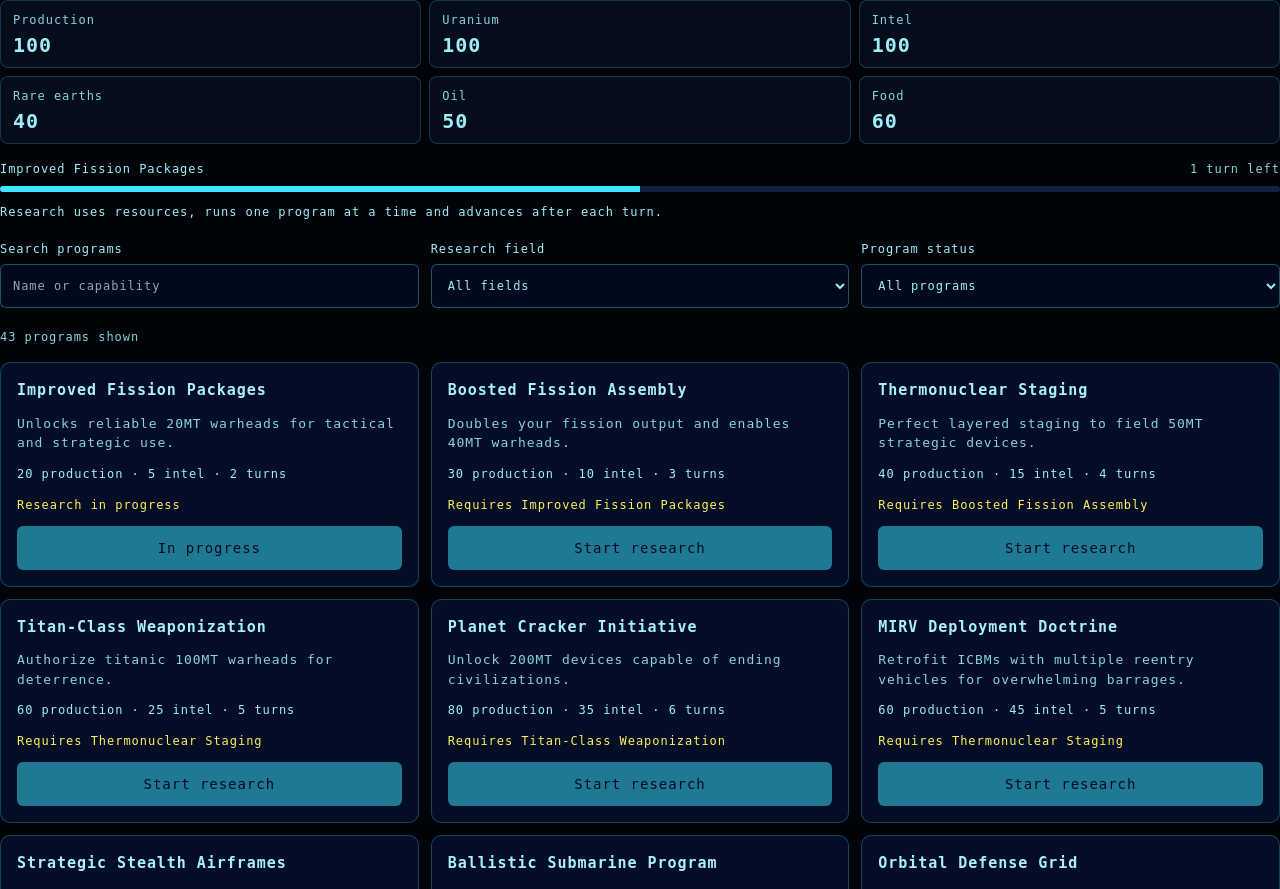
it: research workspace › keeps the queue visible and blocks new starts while a project runs
The width and height of the screenshot is (1280, 889).
Check: the button with aria-label "Start Improved Fission Packages" is disabled, box [17,526,402,570]
Select "Completed" in the dropdown labelled "Program status": (1071, 286) [861,264,1279,308]
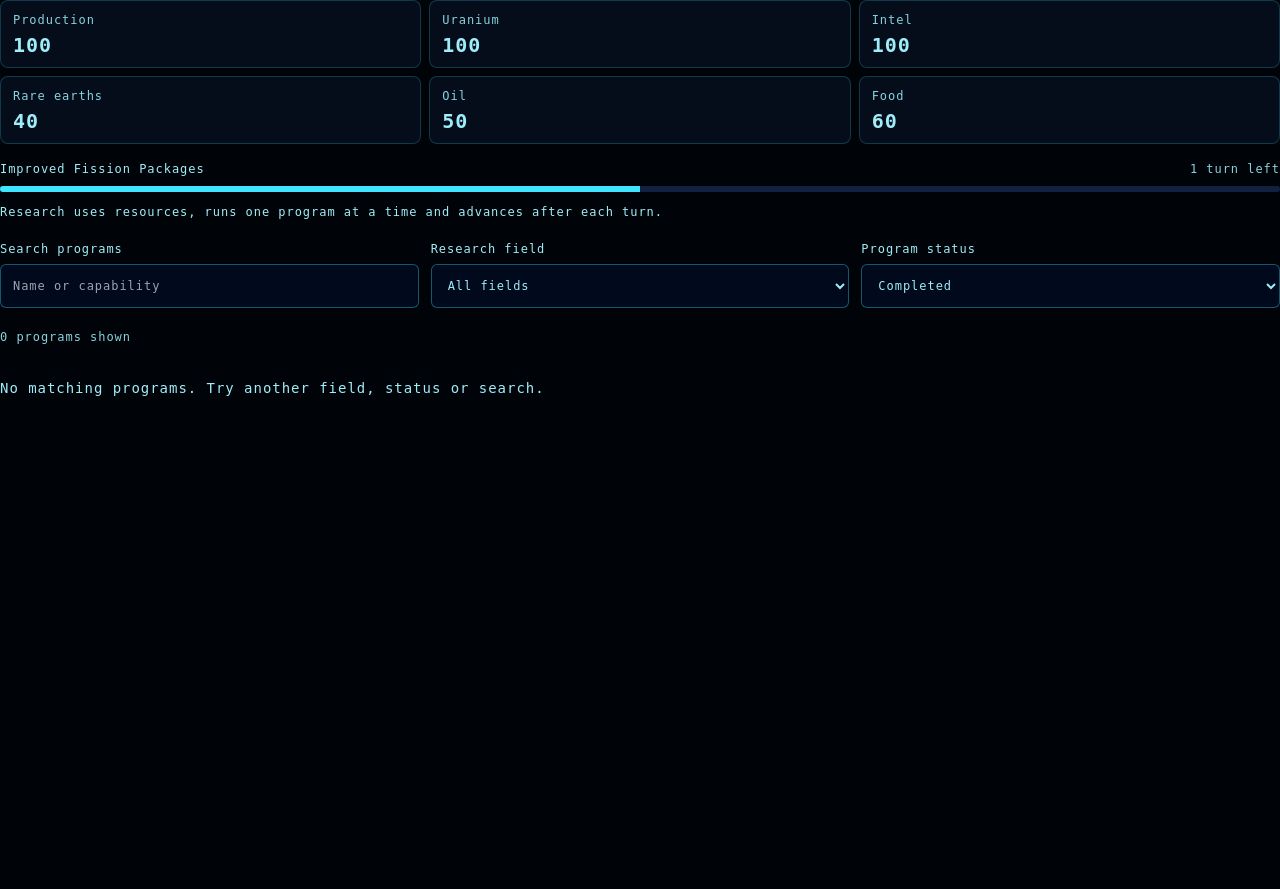
Check: the text "No matching programs. Try another field, status or search." is shown, box [0,380,544,396]
